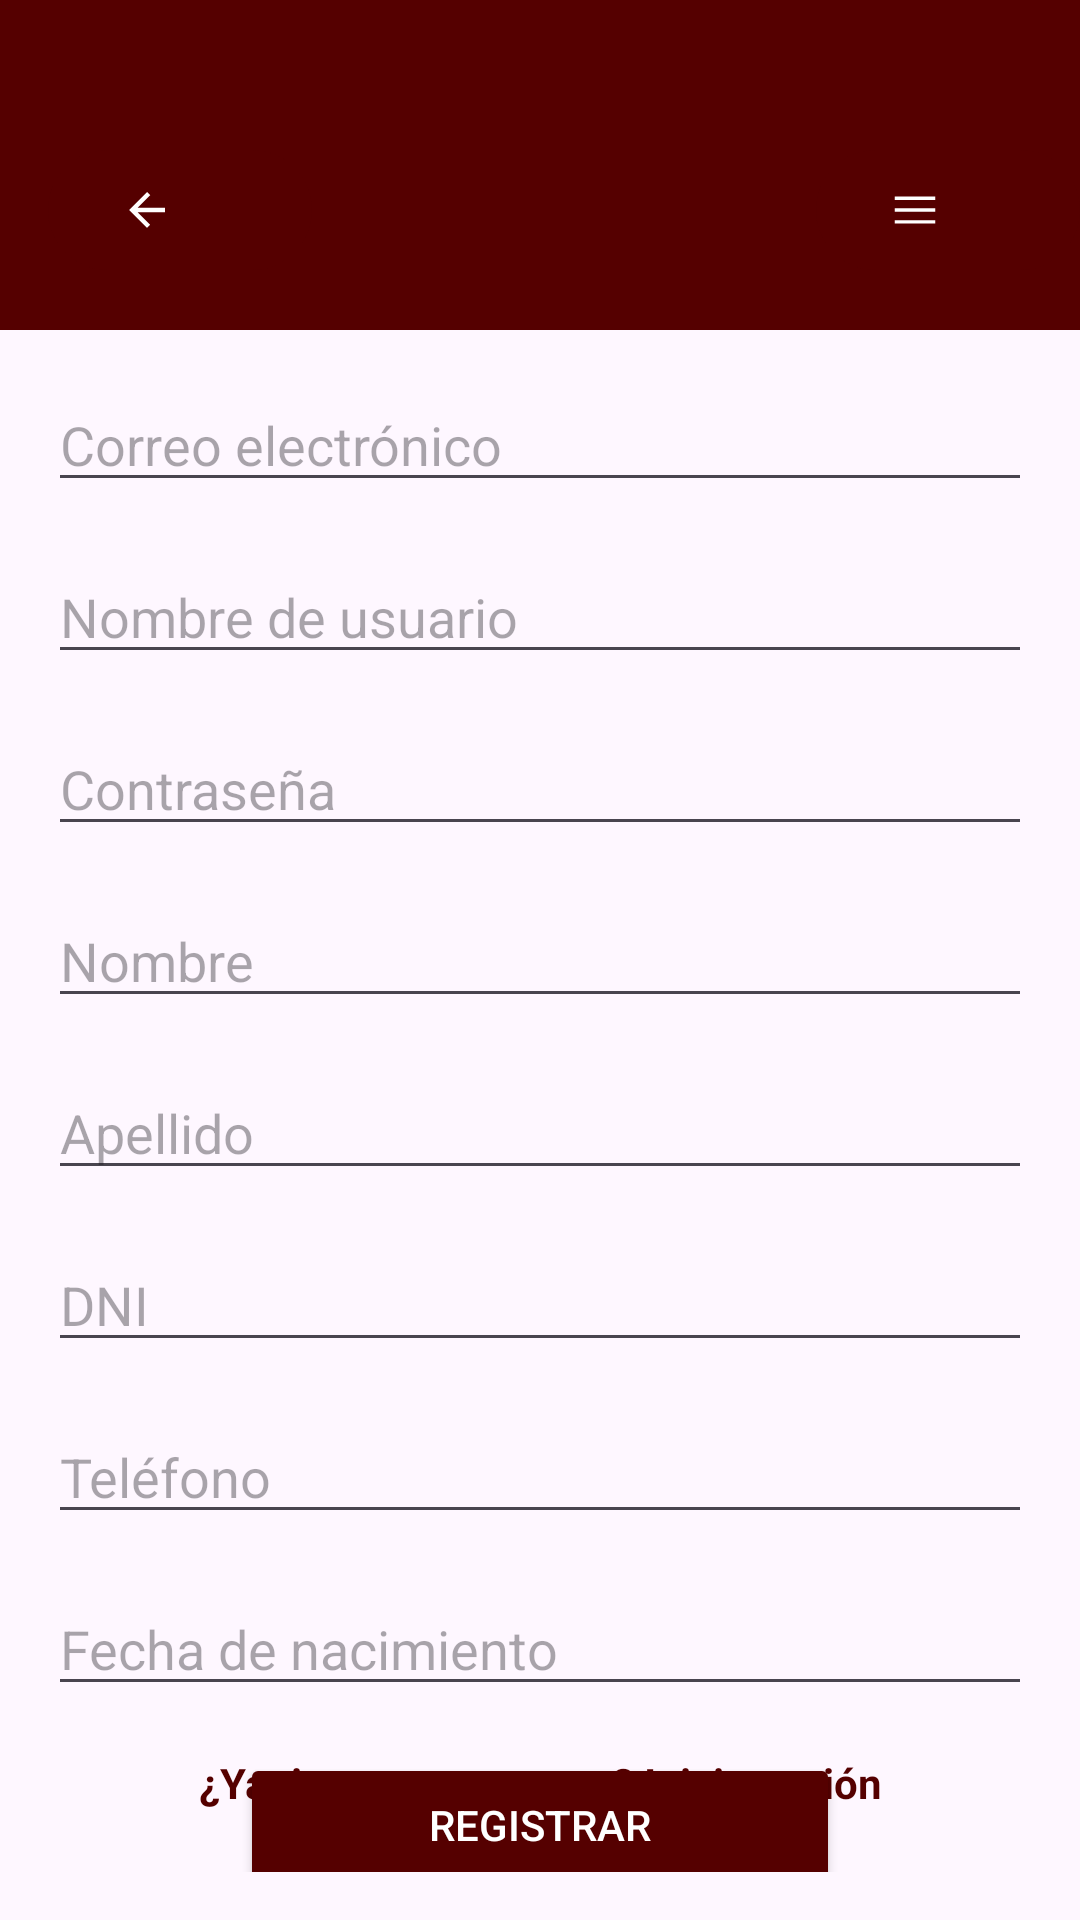

Named icons in this screenshot (1080px×1920px) and their bounding boxes, detection(x1, y1, x2, y2):
Menú: detection(894, 196, 936, 224)
Volver: detection(129, 192, 165, 228)
